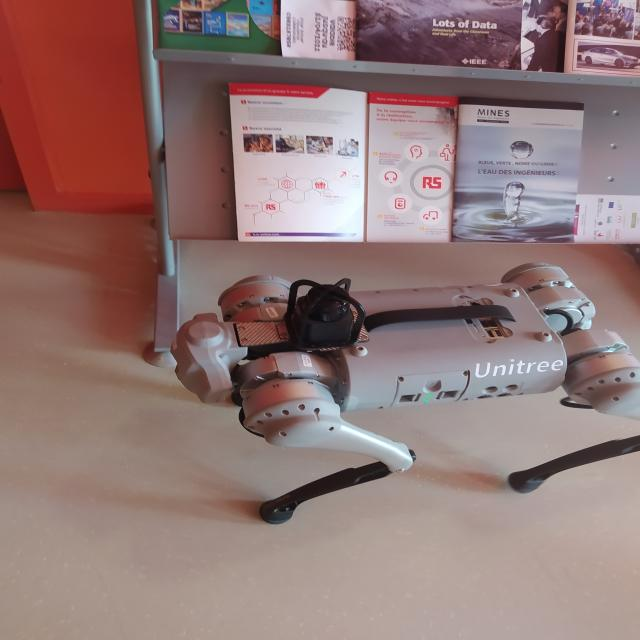unitree-go1-robot: (156, 250, 640, 535)
